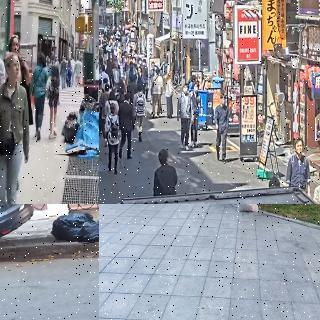Garbage: (48, 209, 96, 243), (76, 110, 99, 152), (63, 111, 82, 143), (80, 216, 99, 242), (227, 204, 260, 218), (80, 95, 97, 115), (91, 100, 99, 116)
